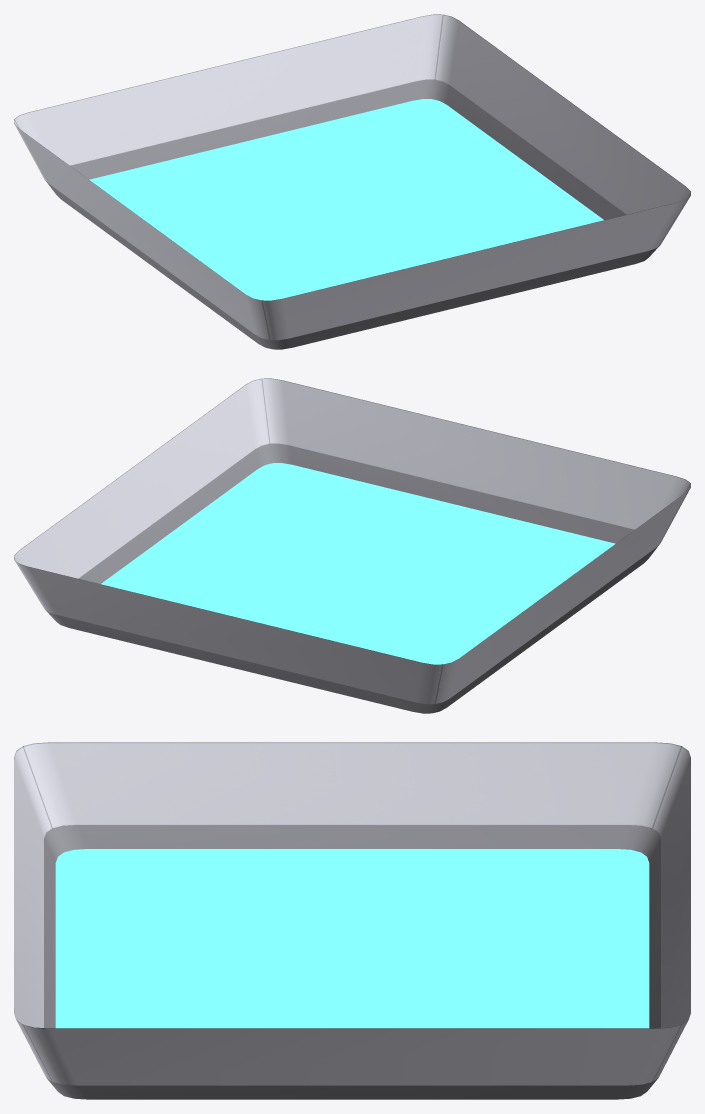
Rendered from Light_01.FBX.
3 views of the same model, one above another, from view 1: azimuth 30°, elevation 25°; view 2: azimuth 150°, elevation 25°; view 3: azimuth 270°, elevation 25° (orthographic). The views are drawn at different scales.
Visible parts, largest first — view 1: Light_01; view 2: Light_01; view 3: Light_01.
Part boxes in pixels (x1=…): Light_01: x1=14, y1=14, x2=690, y2=349; Light_01: x1=14, y1=378, x2=690, y2=713; Light_01: x1=14, y1=742, x2=690, y2=1099.
Size of the model in its own units: 0.9937 by 0.1439 by 0.9937.
Materials: 2 (1 with a texture image).
